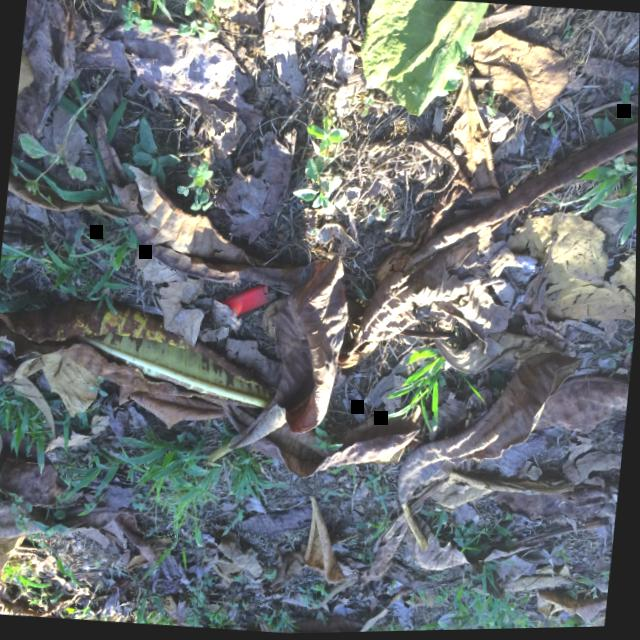Unlabeled litter: (221, 285, 278, 317)
